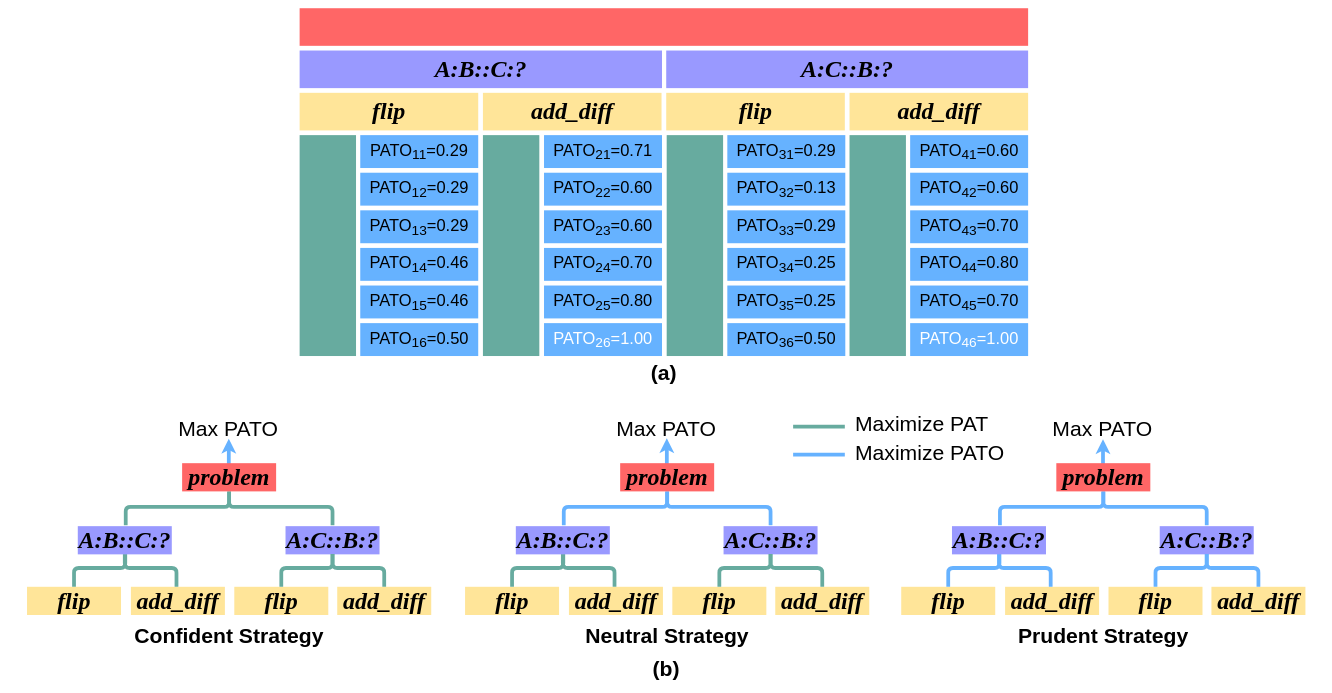
Image size: 1332x693. Some labels were removed from this diagram. Here are the shapes that lost their labels. From the top down, the box of each, then its label:
(299, 8, 1028, 46): Example Problem
(299, 135, 356, 356): PAT 1 =0.25
(483, 135, 539, 356): PAT 2 =1
(666, 135, 723, 356): PAT 3 =0.25
(849, 135, 906, 356): PAT 4 =1
